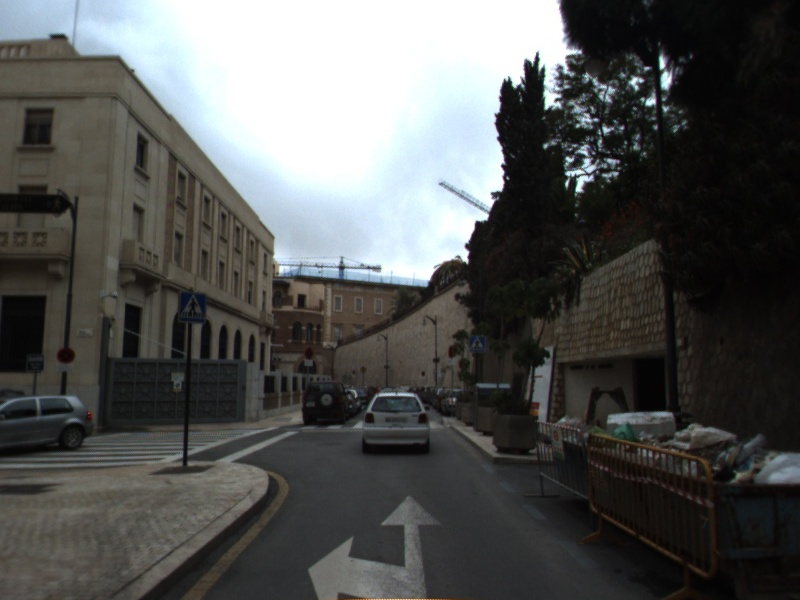STRAIGHT_LEFT: (306, 493, 443, 600)
